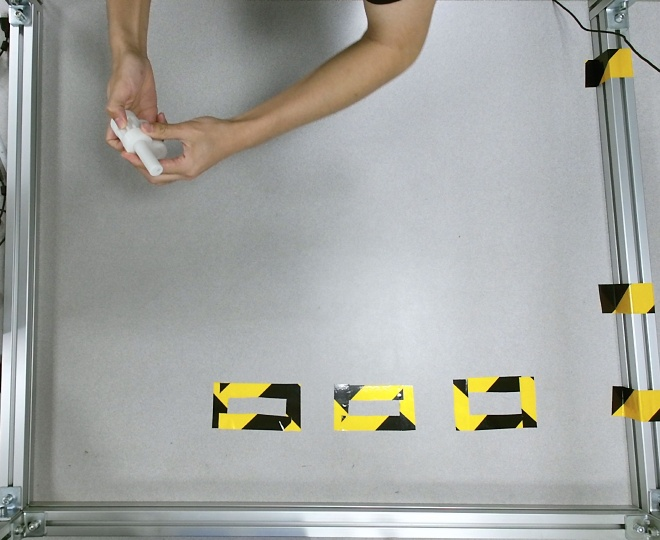stage_4: (110, 108, 167, 176)
